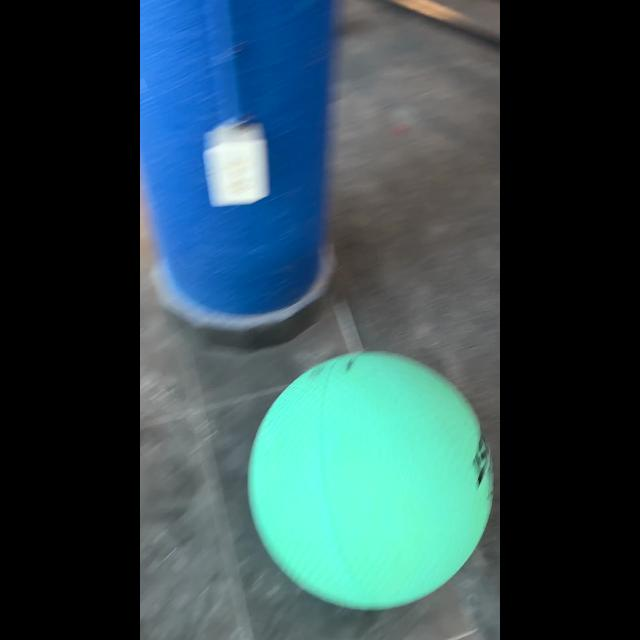ALGAE: (246, 349, 494, 611)
